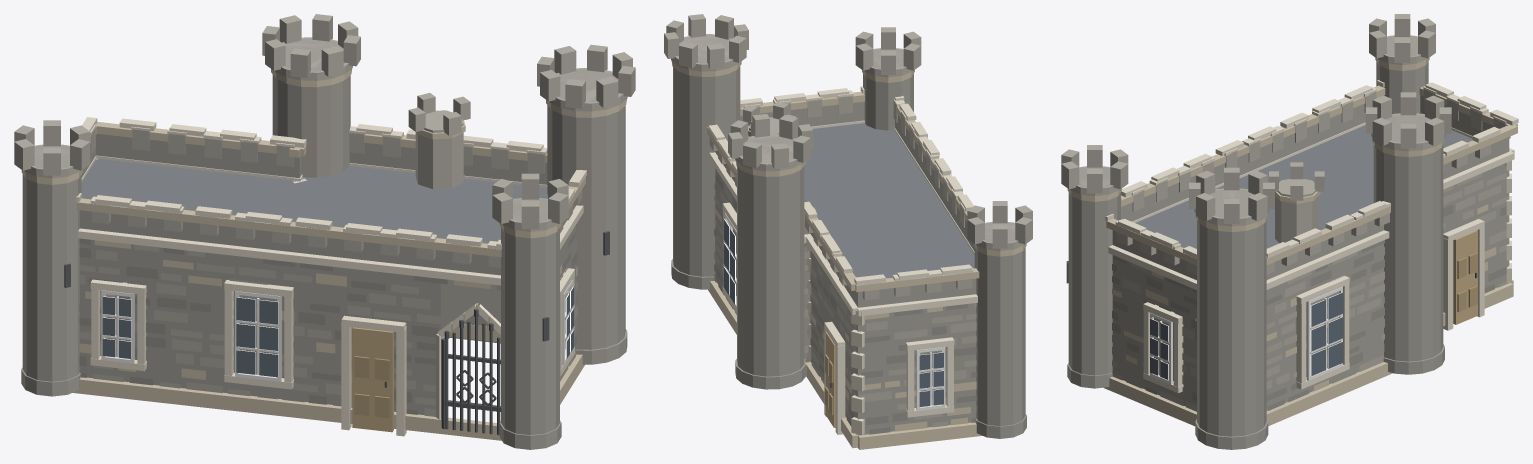
3 views of the same model, side by side, from view 1: azimuth 30°, elevation 25°; view 2: azimuth 150°, elevation 25°; view 3: azimuth 270°, elevation 25° (orthographic). The views are drawn at different scales.
Visible parts, largest first — view 1: rubble, rubble_lt, ss_lt, slate, ss_dk, rubble_dk, black_sur, door_wood, frame, door_wood_p; view 2: rubble, rubble_lt, slate, ss_lt, ss_dk, rubble_dk, frame, door_wood; view 3: rubble, rubble_lt, ss_lt, ss_dk, slate, rubble_dk, frame, door_wood, door_wood_p.
Part boxes in pixels (box(x1,y1,x2,y2)): rubble: box(21, 38, 627, 449); rubble_lt: box(14, 14, 635, 416); ss_lt: box(69, 117, 586, 436); slate: box(81, 158, 547, 243); ss_dk: box(21, 68, 626, 440); rubble_dk: box(79, 224, 577, 414); black_sur: box(64, 231, 609, 435); door_wood: box(352, 327, 393, 432); frame: box(101, 280, 572, 381); door_wood_p: box(354, 356, 389, 418); rubble: box(671, 35, 1026, 448); rubble_lt: box(664, 14, 1032, 434); slate: box(748, 123, 974, 278); ss_lt: box(708, 86, 977, 435); ss_dk: box(671, 61, 1026, 449); rubble_dk: box(714, 174, 976, 434); frame: box(724, 213, 945, 410); door_wood: box(826, 332, 835, 427); rubble: box(1067, 36, 1509, 449); rubble_lt: box(1061, 14, 1510, 411); ss_lt: box(1105, 80, 1518, 393); ss_dk: box(1067, 57, 1517, 426); slate: box(1135, 125, 1472, 248); rubble_dk: box(1112, 163, 1507, 410); frame: box(1150, 286, 1342, 384); door_wood: box(1453, 230, 1477, 324); door_wood_p: box(1457, 252, 1477, 312).
Bounding box in the file's own units: 11.44 × 6.19 × 10.
